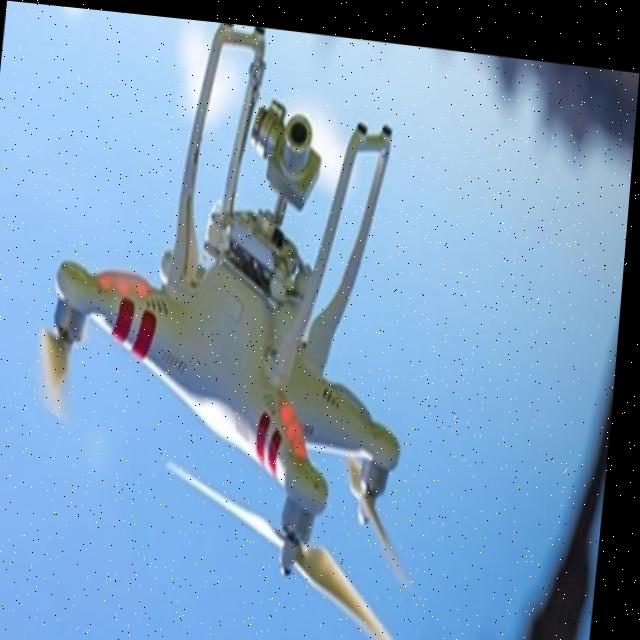drones: (8, 4, 515, 640)
